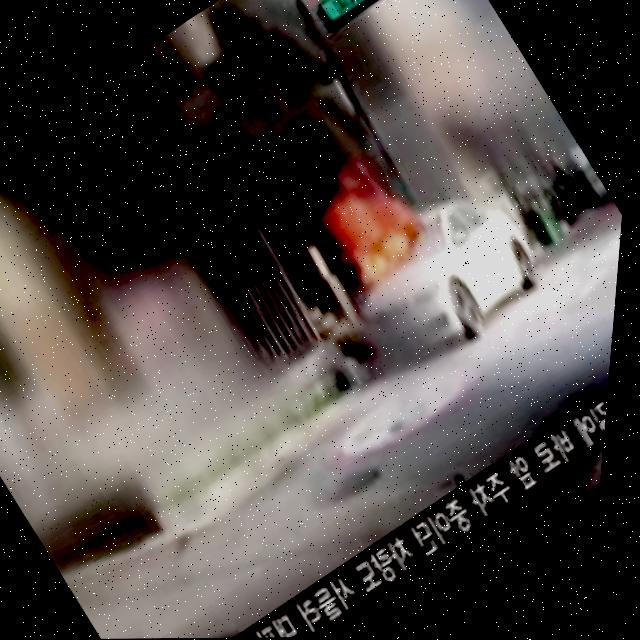Fire: (312, 163, 439, 292)
Smoke: (104, 0, 409, 257)
